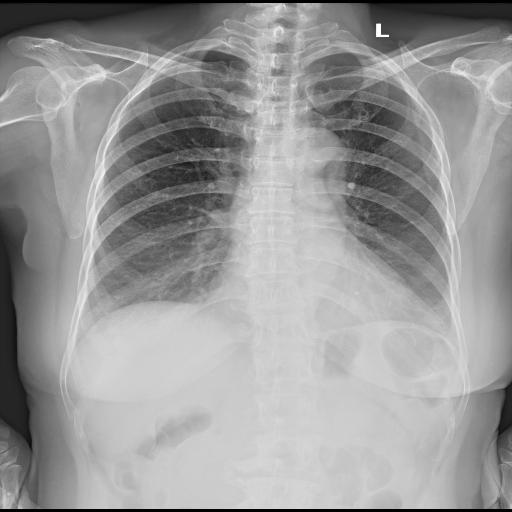Aortic enlargement: (261, 101, 319, 153)
Cardiomegaly: (84, 242, 320, 302)
